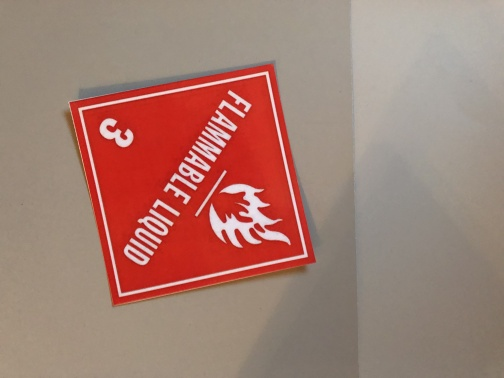FlammableLiquid: (70, 75, 316, 291)
